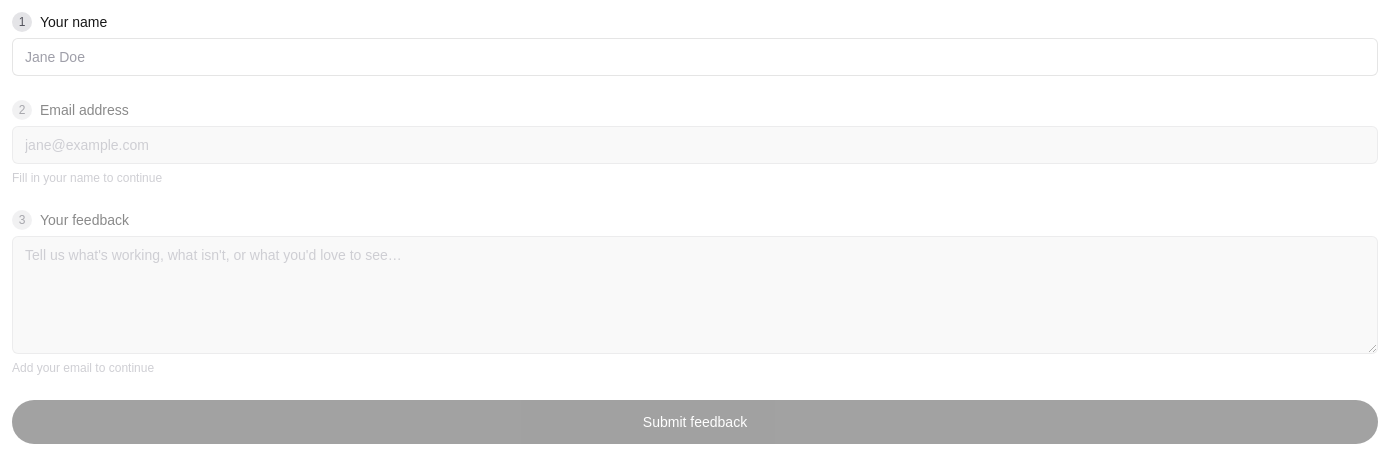
Scenario: FeedbackForm › unlocks fields in sequence and enables submit only when all are valid
Expected: the field labelled "2 Email address" is disabled, [12,126,1378,164]
Expected: the text box labelled "3 Your feedback" is disabled, [12,236,1378,354]
A too-short name does not unlock email.
Type "J" into the field labelled "1 Your name". click: (695, 57)
box: [12,38,1378,76]
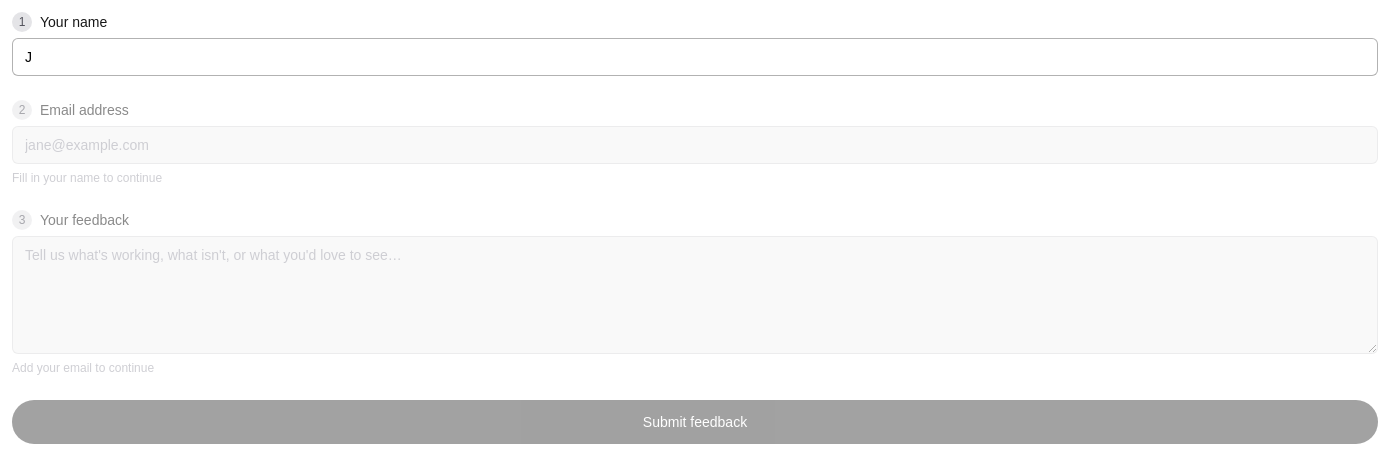
Expected: the field labelled "2 Email address" is disabled, [12,126,1378,164]
A valid name unlocks email (but not the message yet).
Type "ane Doe" into the field labelled "1 Your name". click: (695, 57)
box: [12,38,1378,76]
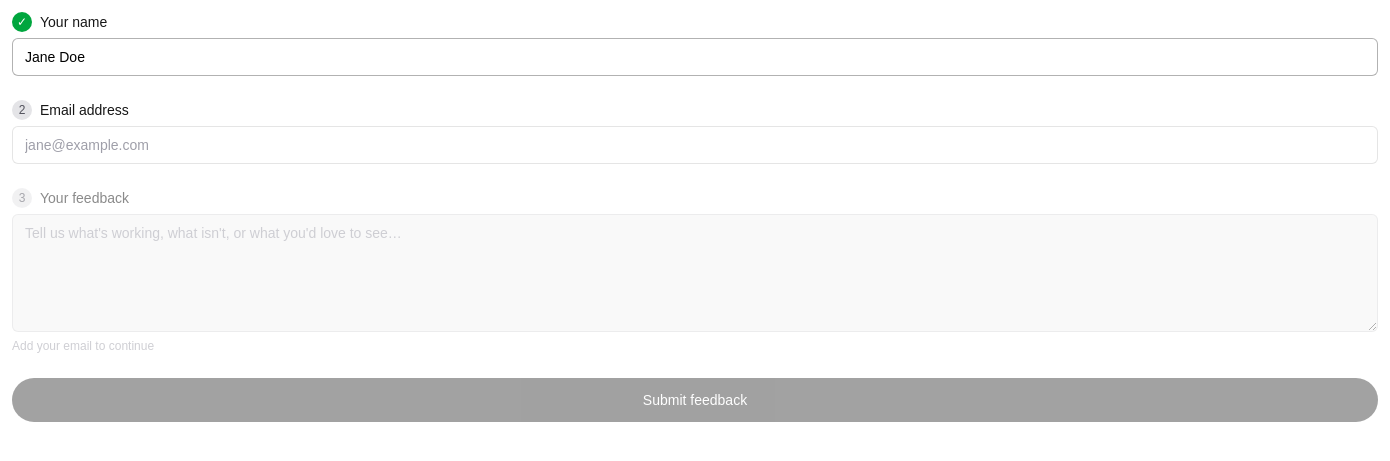
Expected: the text box labelled "3 Your feedback" is disabled, [12,214,1378,332]
Expected: the field labelled "2 Email address" is enabled
An invalid email keeps the message locked.
Type "not-an-email" into the field labelled "2 Email address". click: (695, 145)
box: [12,126,1378,164]
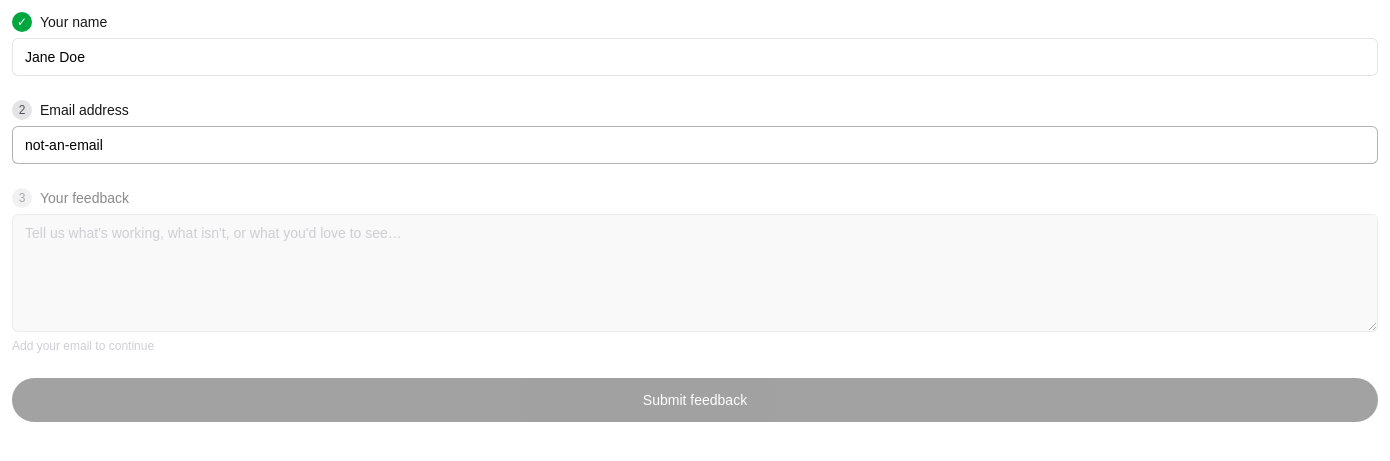
Expected: the text box labelled "3 Your feedback" is disabled, [12,214,1378,332]
Replace the text in the field labelled "2 Email address" with "jane@example.com". click: (695, 145)
box: [12,126,1378,164]
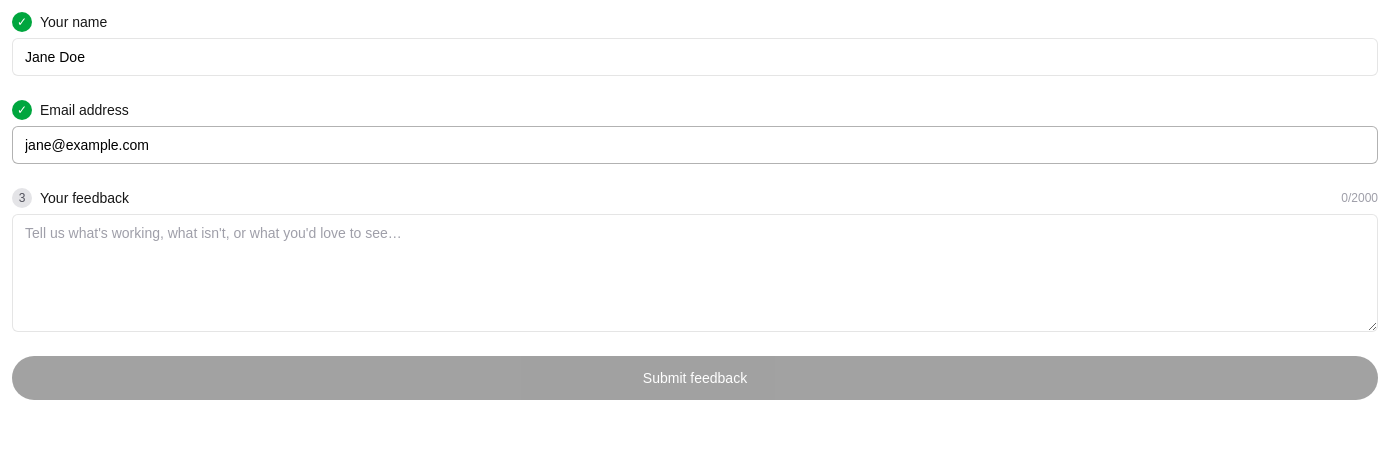
Expected: the button "Submit feedback" is disabled, [12,356,1378,400]
Expected: the text box labelled "3 Your feedback" is enabled
Enough feedback enables submit.
Type "This is genuinely useful feedback." into the text box labelled "3 Your feedback". click: (695, 273)
box: [12,214,1378,332]
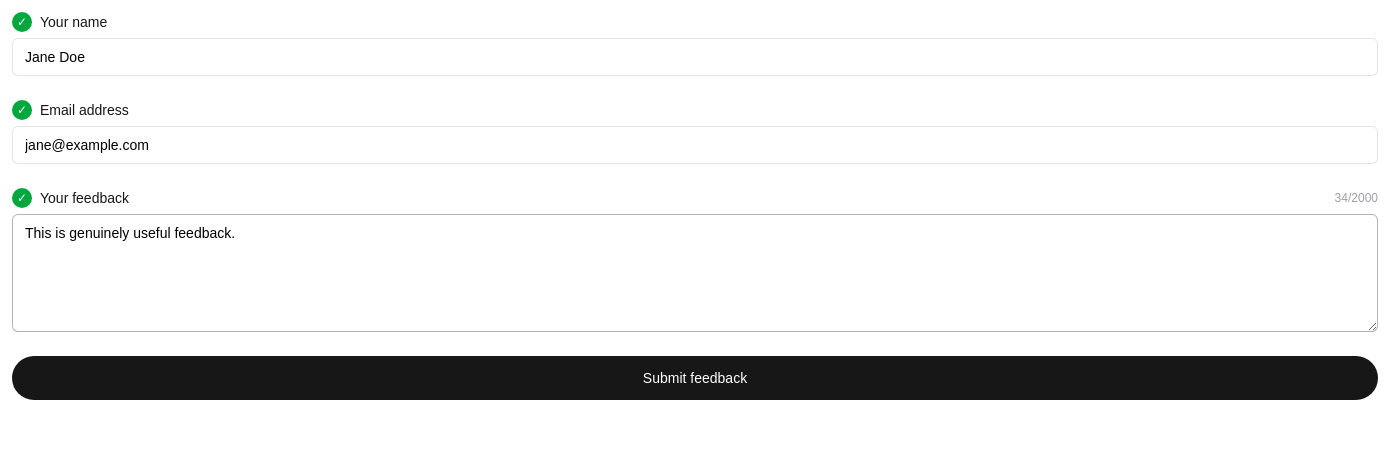
Expected: the button "Submit feedback" is enabled, [12,356,1378,400]
